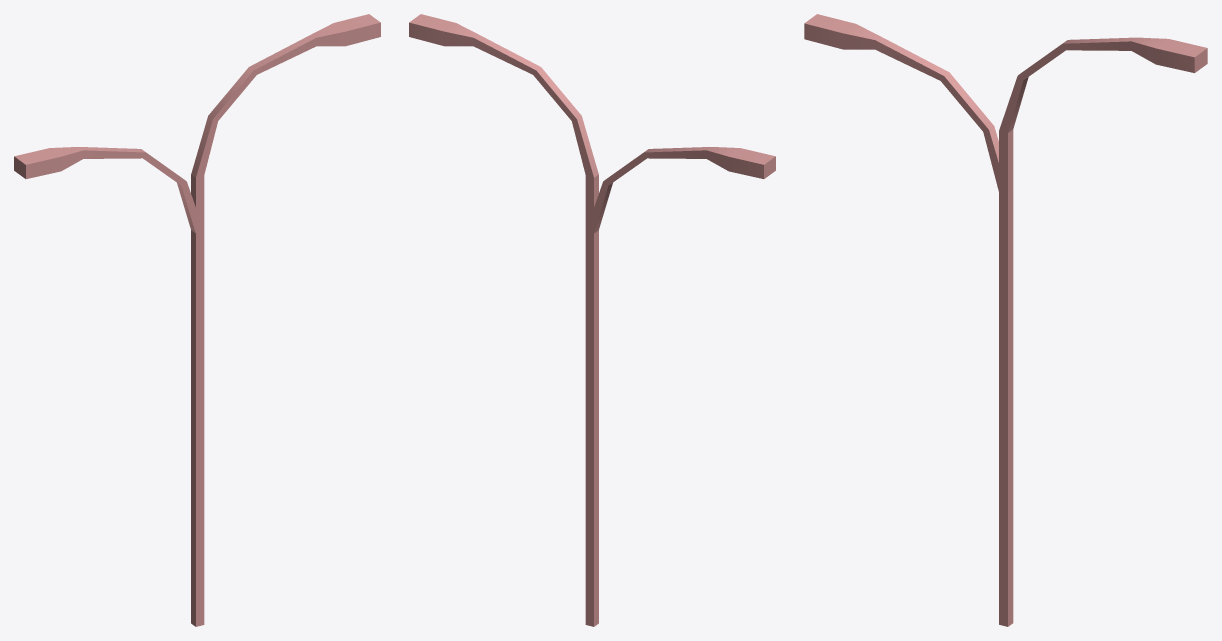
The model's file is LightPole_B_B_COL.fbx.
3 renders of one model, left to right at view 1: azimuth 30°, elevation 25°; view 2: azimuth 150°, elevation 25°; view 3: azimuth 330°, elevation 25°, orthographic. The views are drawn at different scales.
Parts seen in each view (by area): view 1: LightPole_B_B_COL; view 2: LightPole_B_B_COL; view 3: LightPole_B_B_COL.
Boxes of the visible parts, x1=… form: LightPole_B_B_COL: x1=14, y1=14, x2=380, y2=626; LightPole_B_B_COL: x1=409, y1=14, x2=775, y2=626; LightPole_B_B_COL: x1=804, y1=14, x2=1207, y2=626.
Size of the model in its own units: 593 by 898 by 34.15.
